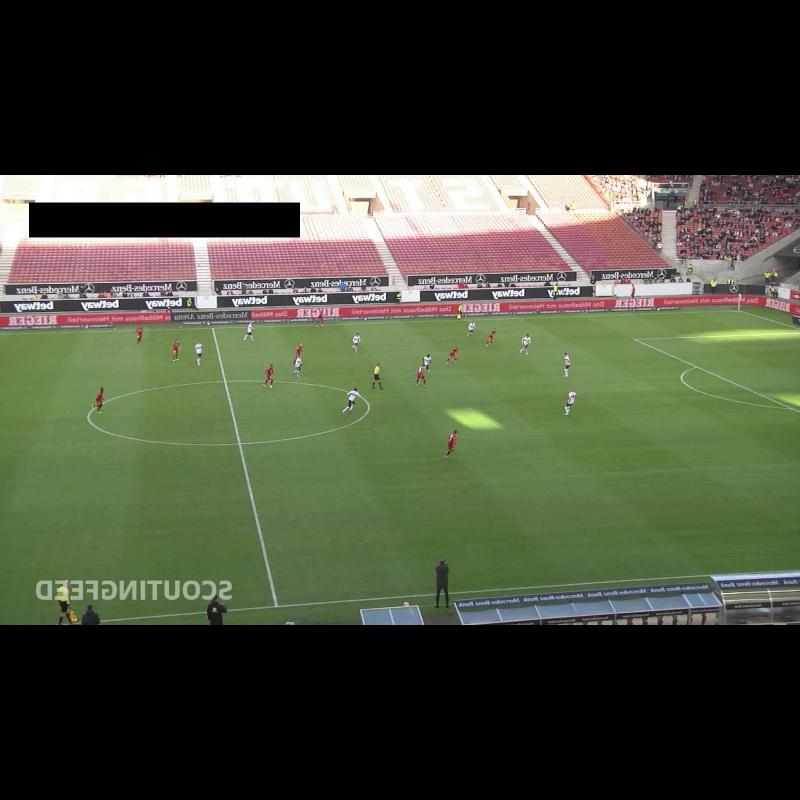cross_recipient_zone: (635, 331, 800, 413)
crossing_player_zone: (491, 310, 799, 344), (747, 458, 800, 499)
pitch: (0, 310, 800, 625)
